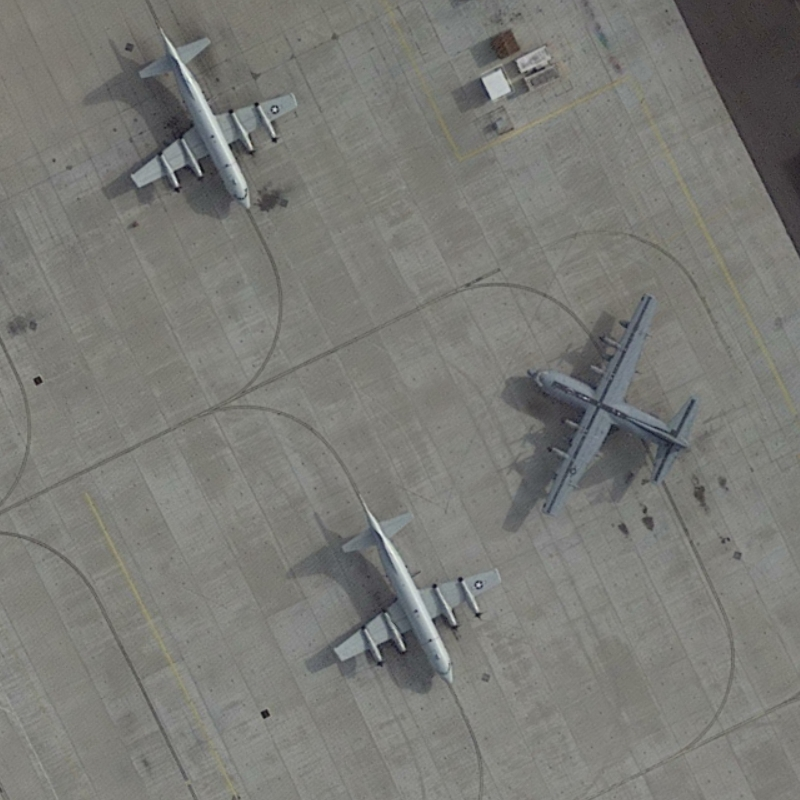A2: (510, 285, 704, 521)
A9: (323, 479, 508, 698), (111, 22, 303, 215)
